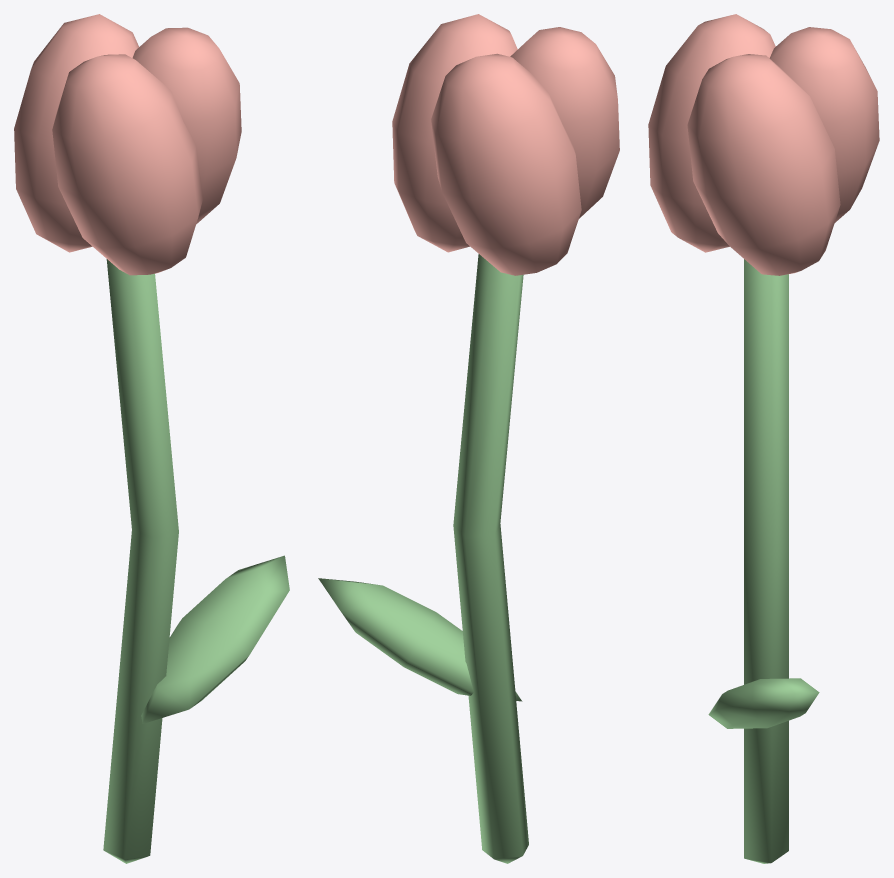
Rendered from flower_tulipa_coral.glb.
3 renders of one model, left to right at view 1: azimuth 30°, elevation 25°; view 2: azimuth 150°, elevation 25°; view 3: azimuth 270°, elevation 25°, orthographic.
Parts seen in each view (by area): view 1: flower_tulipa_coral; view 2: flower_tulipa_coral; view 3: flower_tulipa_coral.
Part boxes in pixels (x1=…): flower_tulipa_coral: x1=14, y1=14, x2=289, y2=863; flower_tulipa_coral: x1=318, y1=14, x2=619, y2=863; flower_tulipa_coral: x1=648, y1=14, x2=879, y2=863.
Bounding box in the file's own units: 0.179 × 0.5509 × 0.1393.
